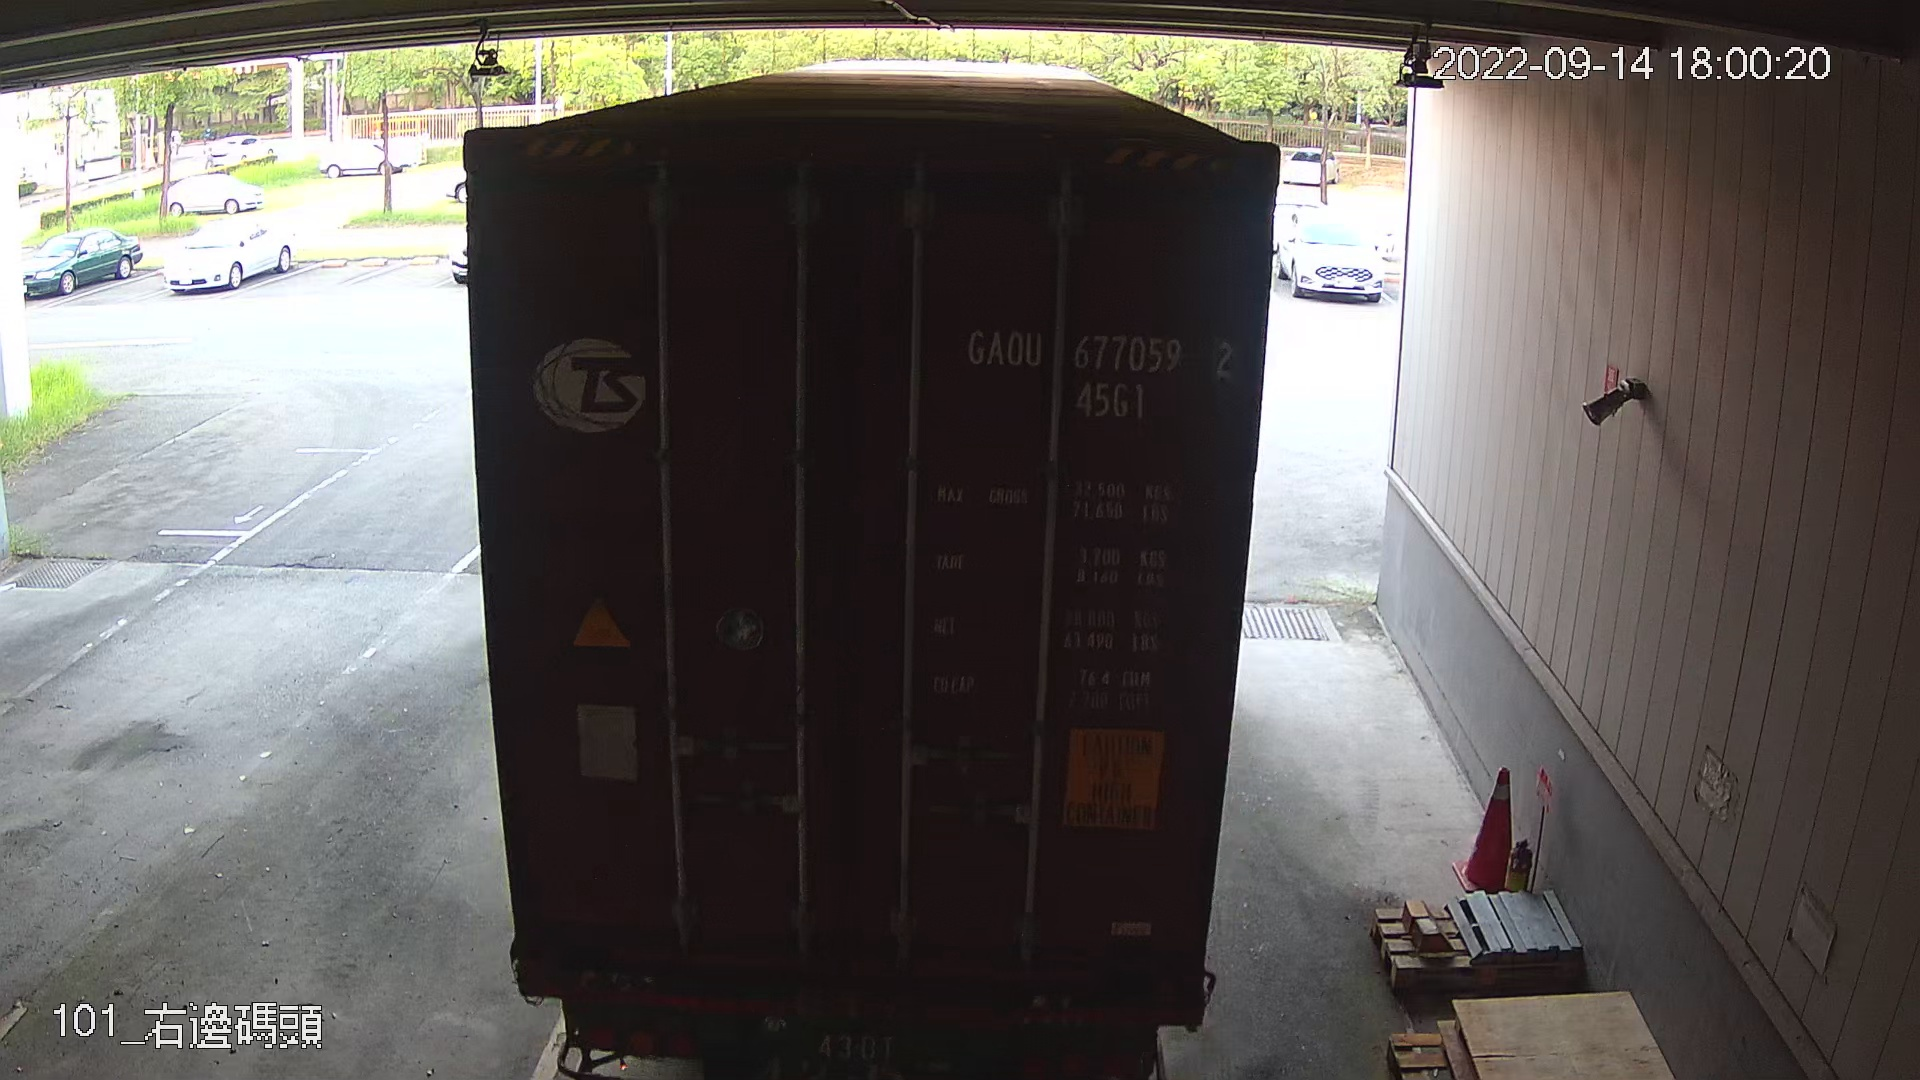container: (953, 313, 1240, 429)
